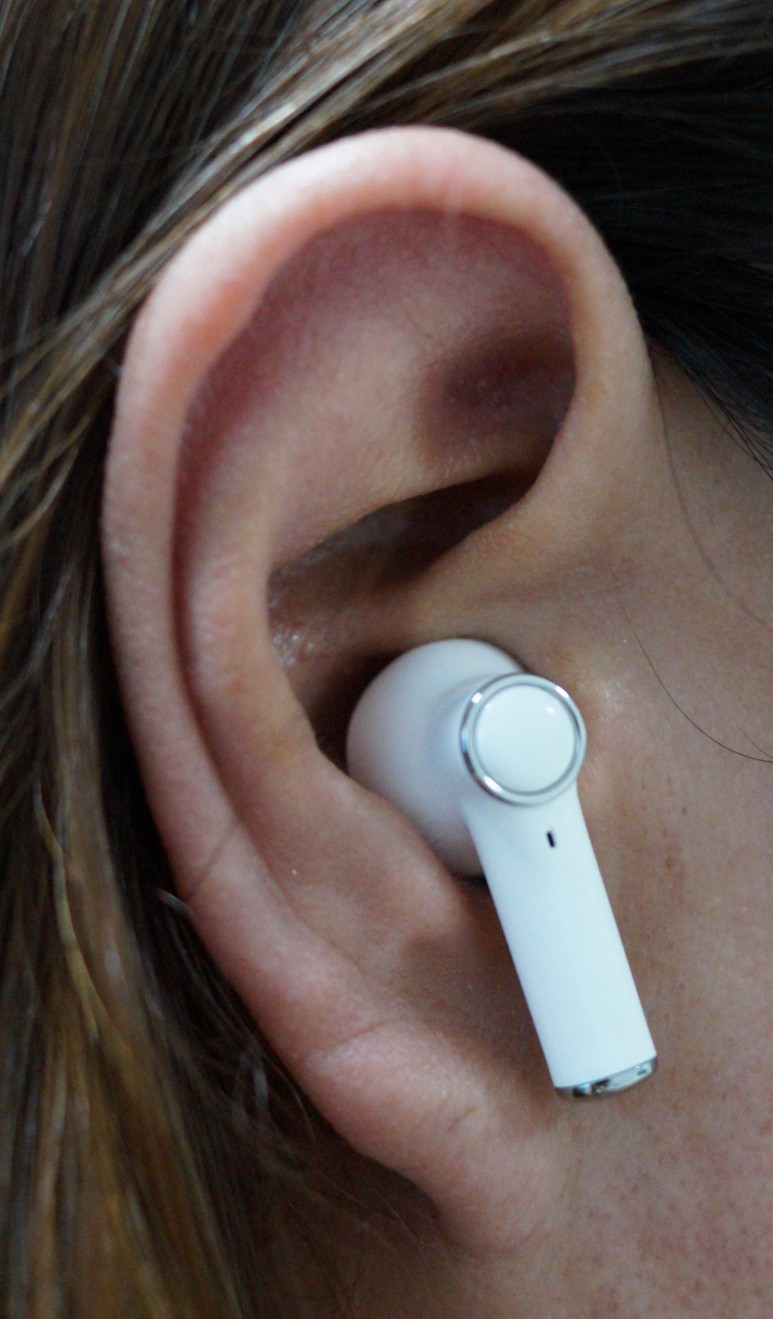earphone: (109, 126, 661, 1239)
